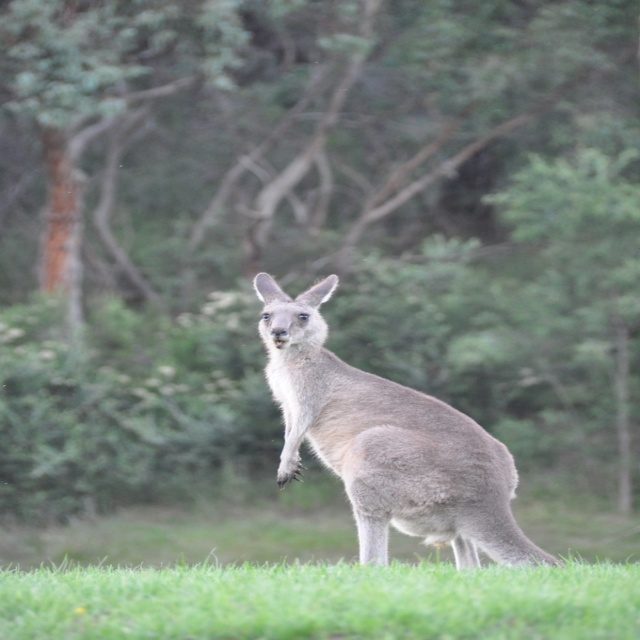Kangaroo: (252, 273, 570, 571)
